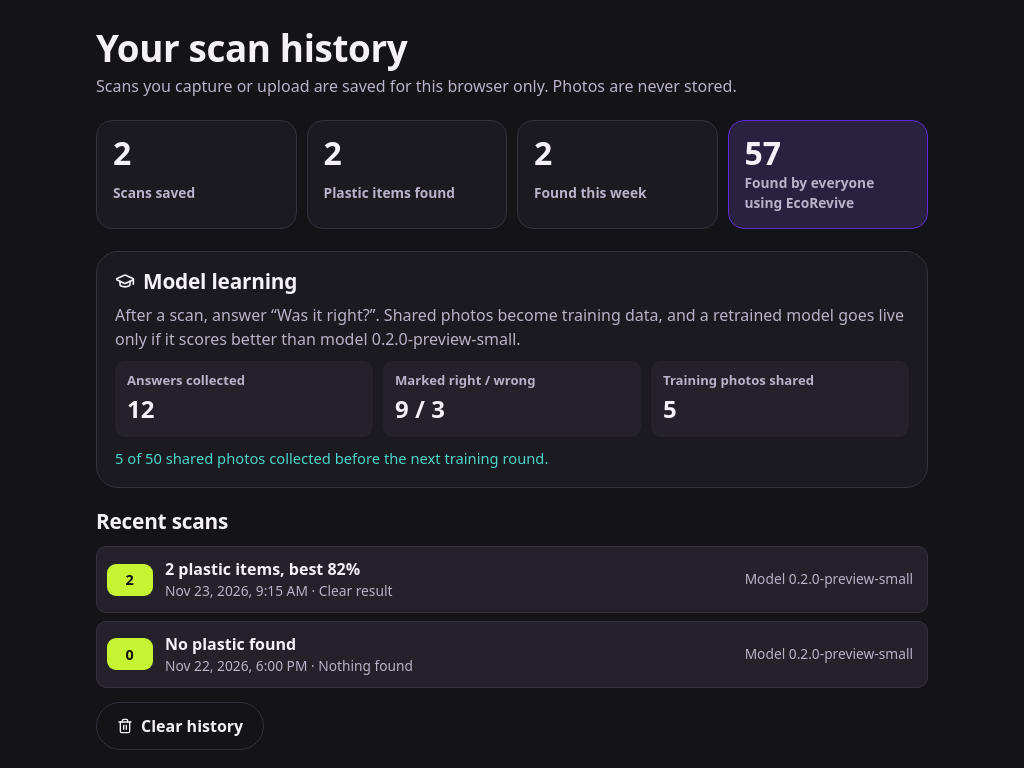
it: asks before clearing, then deletes and reloads
The width and height of the screenshot is (1024, 768).
What coordinates should you click on to do the following:
click the button "Clear history"
I would click on:
 (180, 726)
Its box is [96,702,264,750].
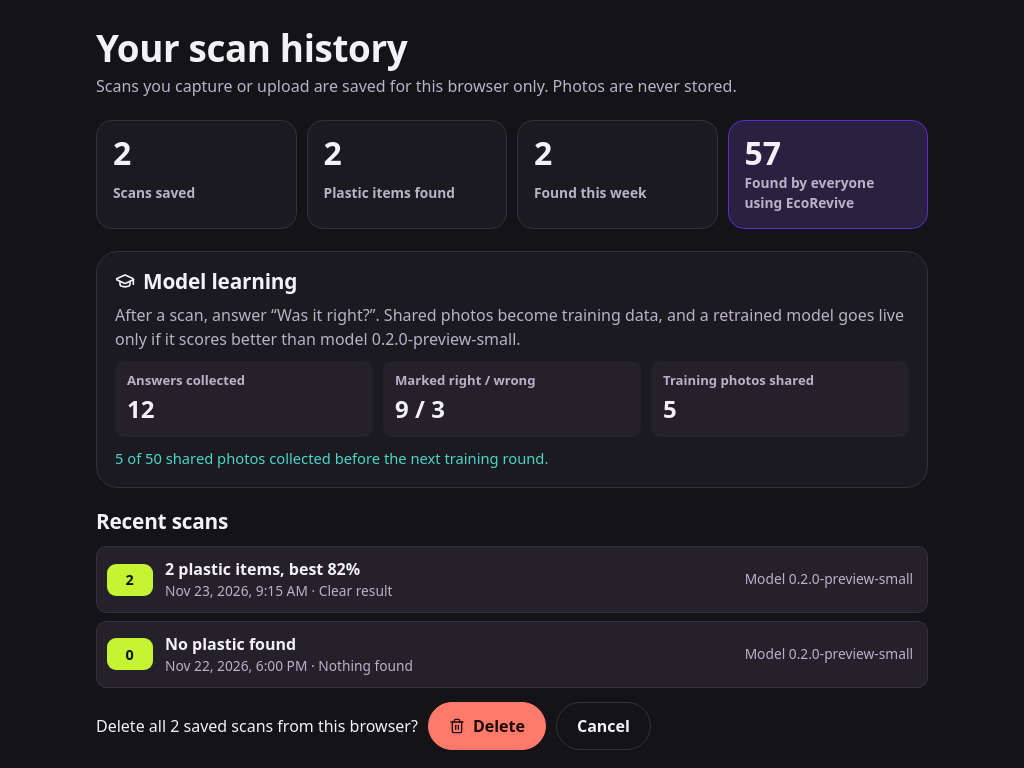
Check: the text "Delete all 2 saved scans from this browser?" is shown, box [96,714,418,738]
What coordinates should you click on to do the following:
click the button "Delete"
I would click on:
 (487, 726)
Its box is [428,702,546,750].
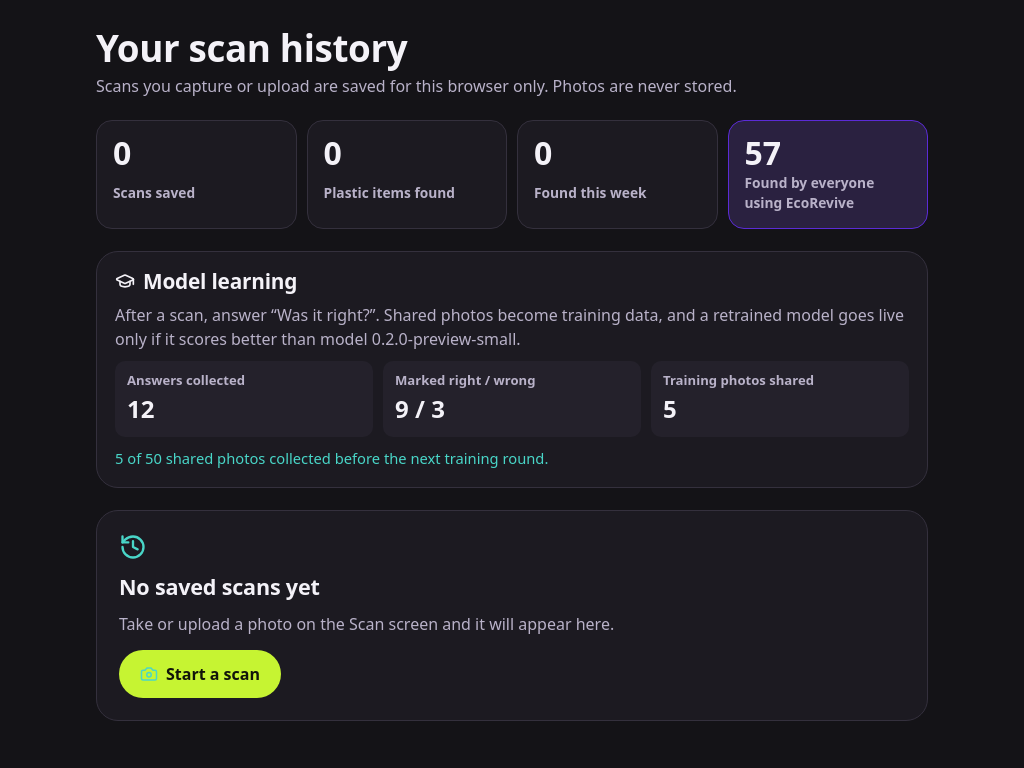
Check: the heading "No saved scans yet" is shown, box [119,575,320,598]
